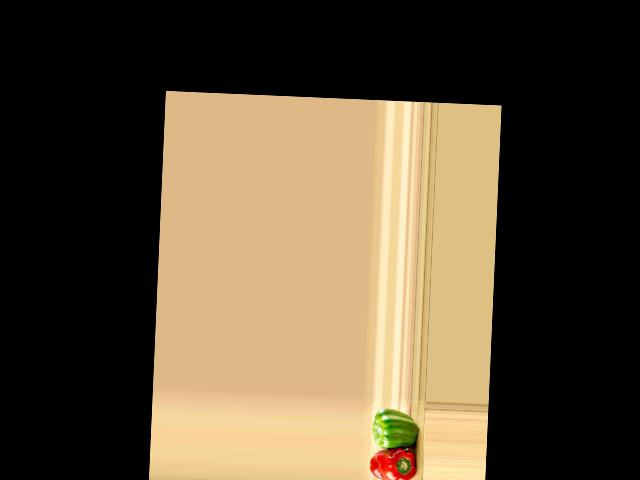bell_pepper: (368, 445, 417, 480)
